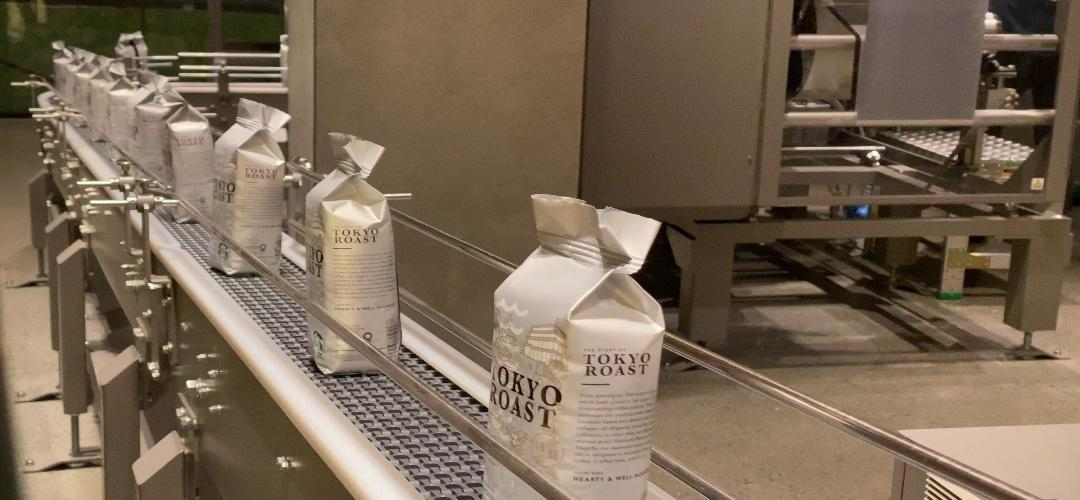conveyor: (493, 285, 667, 461), (306, 192, 402, 316), (214, 138, 282, 234), (156, 117, 212, 191)
